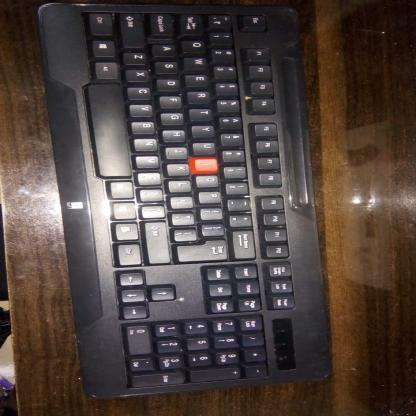keyboard: (76, 6, 315, 386)
